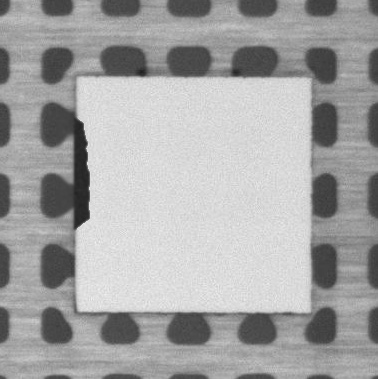DIE_BROKEN: (71, 113, 92, 231)
